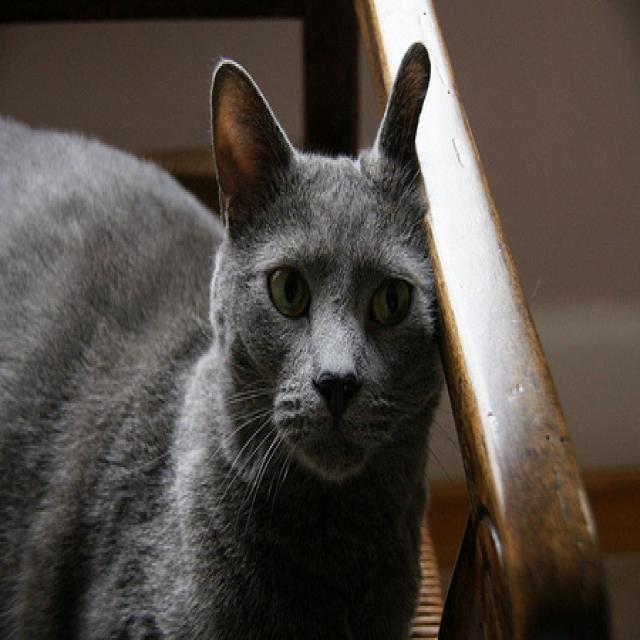Russian Blue: (0, 36, 444, 640)
